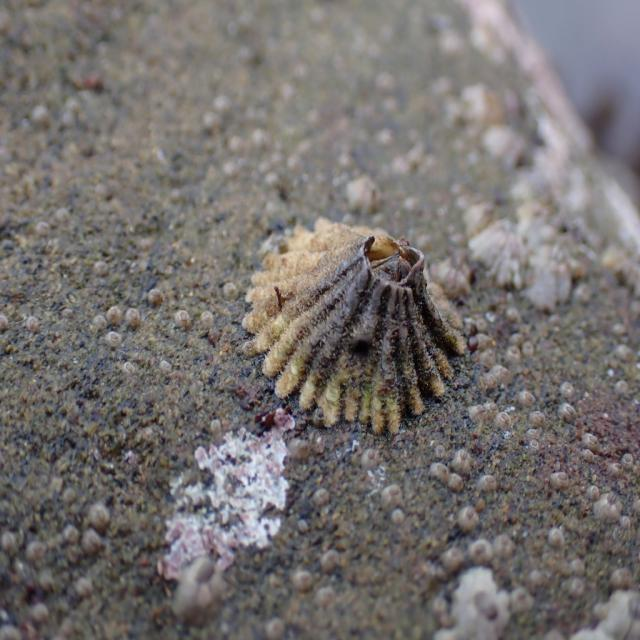barnacles: (244, 206, 457, 438)
